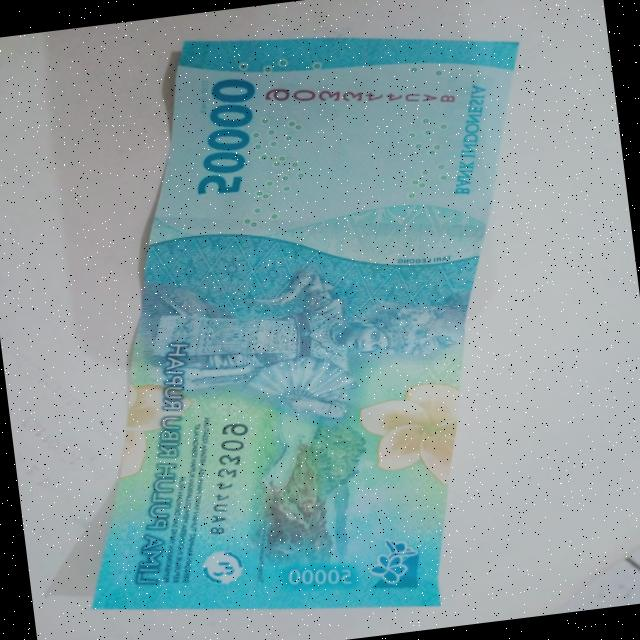50K: (23, 0, 604, 640)
